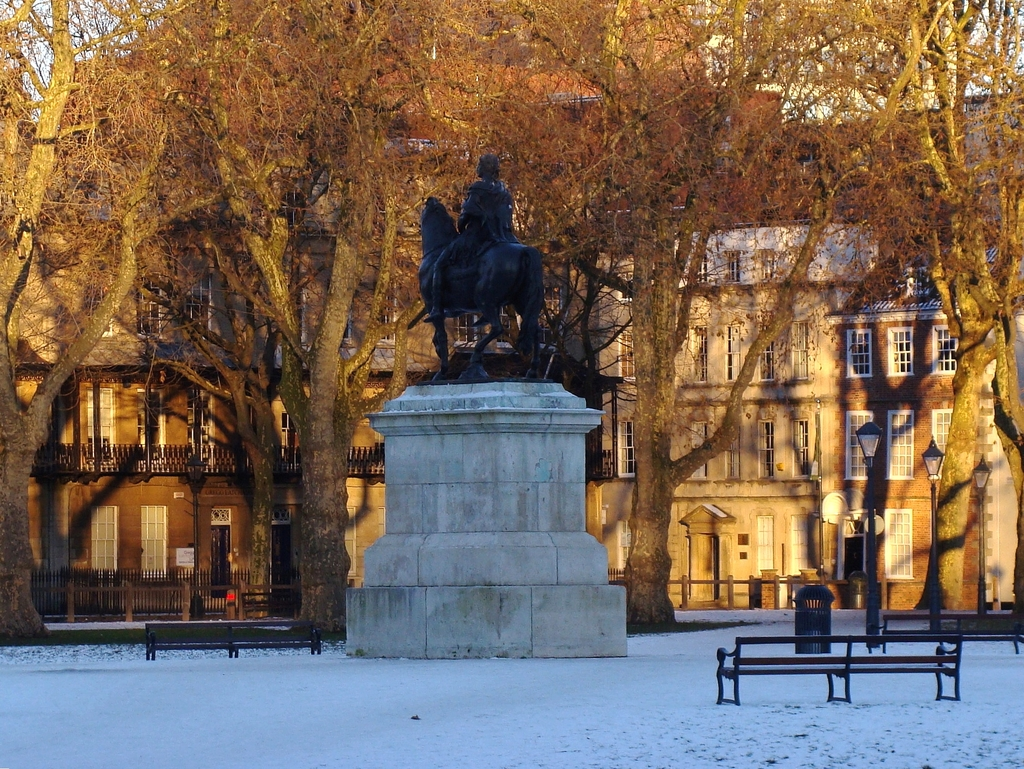Tree: (0, 0, 1023, 642)
